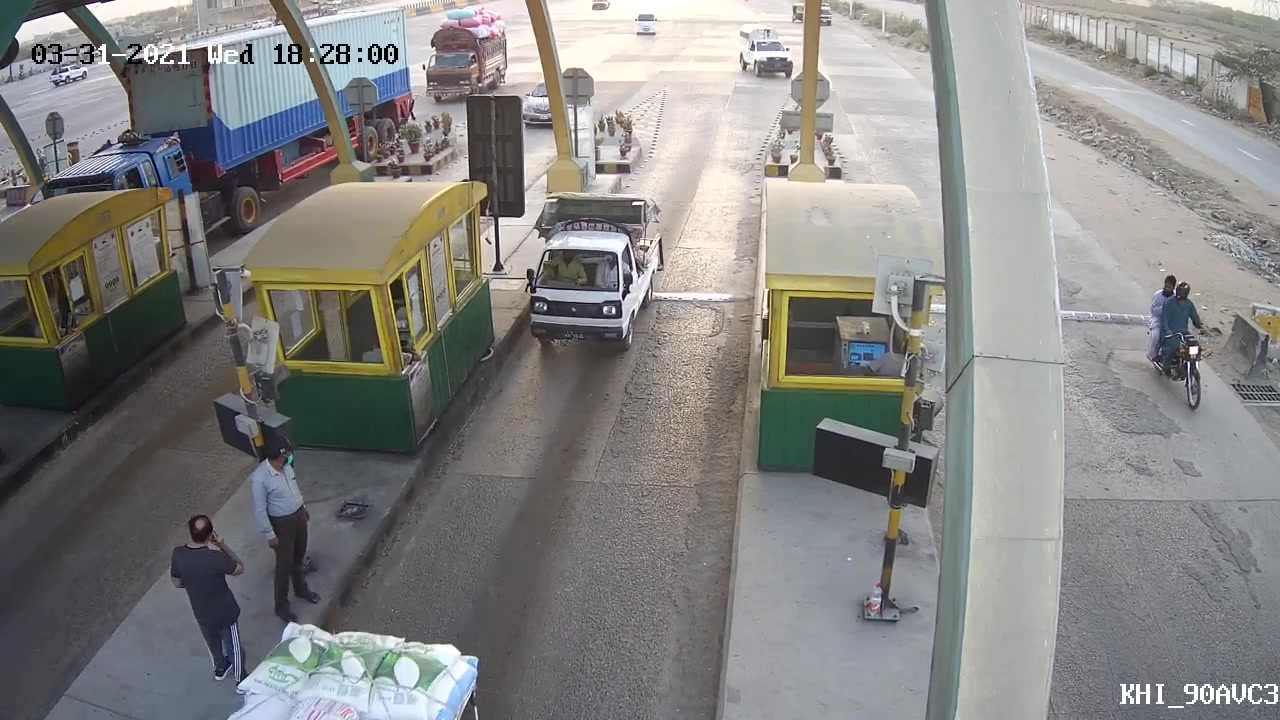F1: (518, 186, 672, 351)
